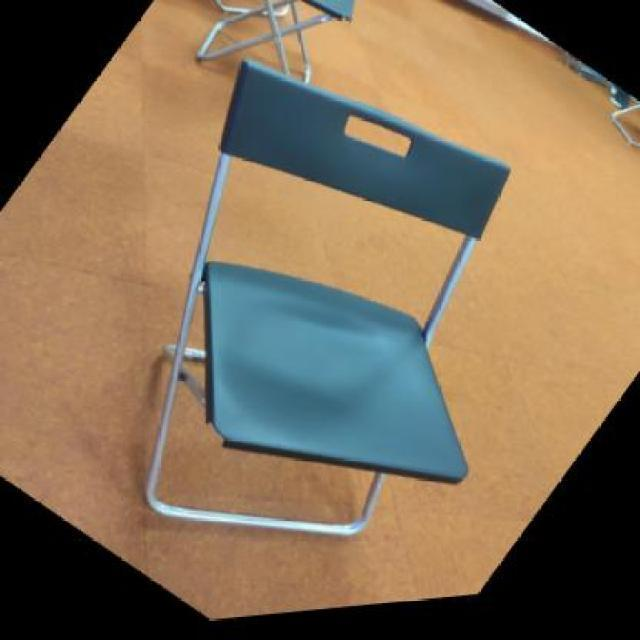chair: (143, 57, 511, 537), (194, 0, 355, 83)
